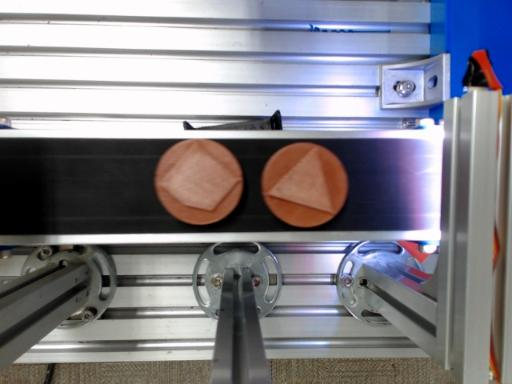Brown_Waper: (155, 140, 243, 225), (262, 142, 348, 227)
